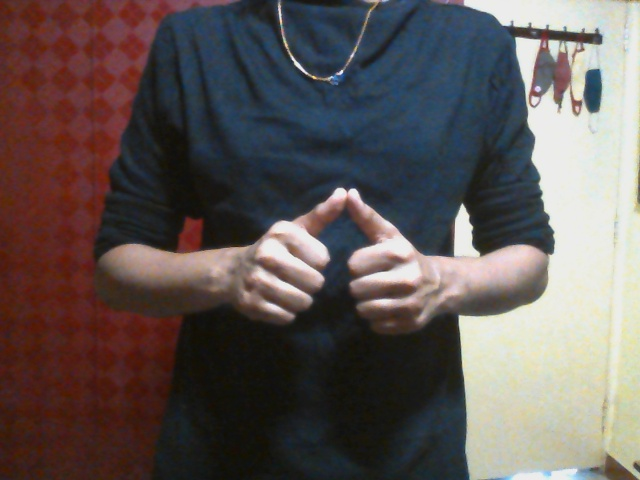A: (233, 186, 439, 337)
